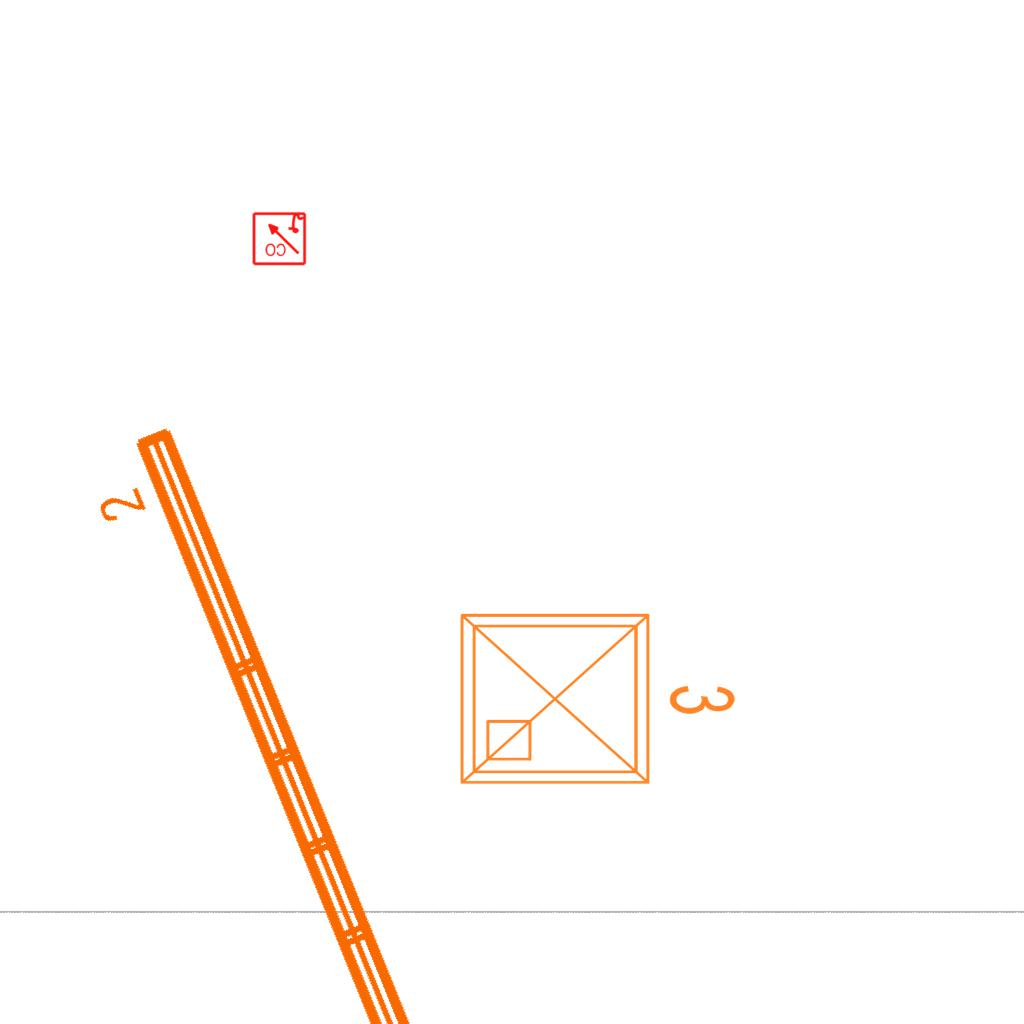Ambulanz_Pendelleuchte_LED: (73, 414, 467, 1024)
Einbaudownlights_LED_Konferenzraeume: (446, 591, 746, 799)
ROA_Rauchmelder_optisch_mit_Signalgeber_(Sockelsirene): (251, 210, 307, 266)
